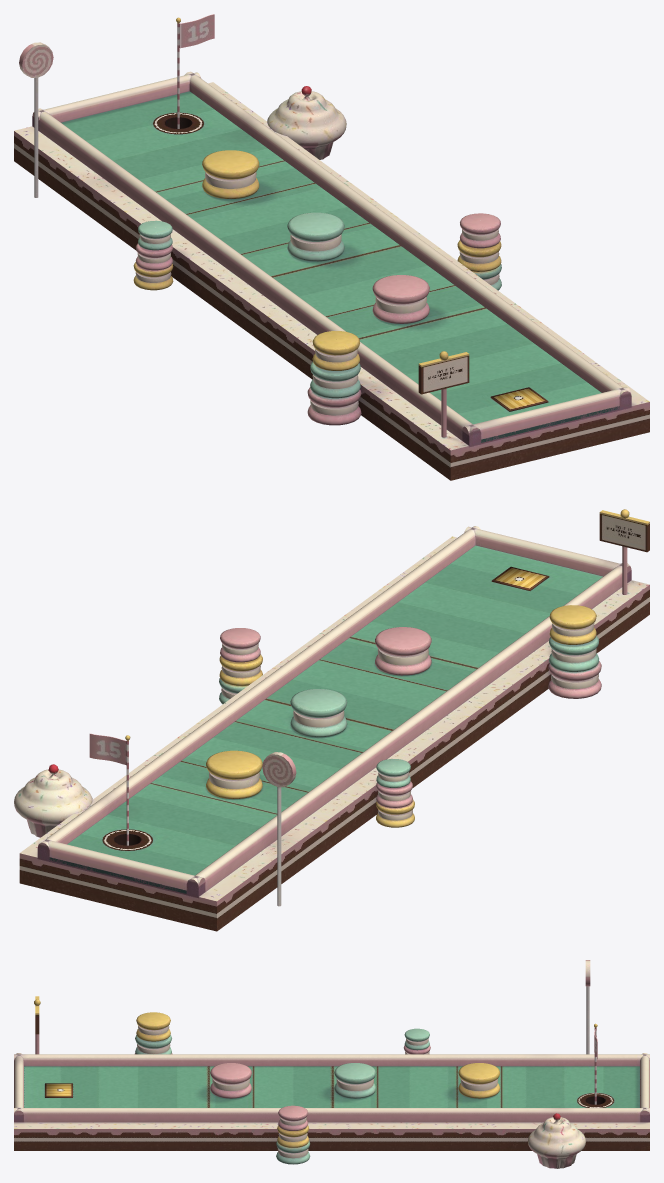
Rendered from hole15.glb.
The picture shows the model from 3 angles, top to bottom: view 1: azimuth 30°, elevation 25°; view 2: azimuth 150°, elevation 25°; view 3: azimuth 270°, elevation 25°; orthographic projection. The views are drawn at different scales.
Visible parts, largest first — view 1: Green, Base, Rails, Decor1, Decor4, Decor2, MacaronGate2, MacaronGate3, MacaronGate1, Decor3, HoleSign, Decor5 (+3 smaller); view 2: Green, Base, Rails, Decor1, Decor4, Decor2, MacaronGate2, MacaronGate1, MacaronGate3, Decor3, HoleSign, Decor5 (+3 smaller); view 3: Green, Rails, Base, Decor4, Decor2, Decor1, MacaronGate3, MacaronGate2, MacaronGate1, Decor3, Cup, Decor5 (+1 smaller).
Part boxes in pixels (bbox=[...]): Green: bbox=[61, 91, 619, 442]; Base: bbox=[14, 82, 649, 480]; Rails: bbox=[32, 71, 631, 446]; Decor1: bbox=[307, 331, 361, 425]; Decor4: bbox=[267, 86, 346, 159]; Decor2: bbox=[457, 213, 501, 290]; MacaronGate2: bbox=[287, 212, 344, 261]; MacaronGate3: bbox=[202, 150, 259, 198]; MacaronGate1: bbox=[372, 275, 429, 323]; Decor3: bbox=[133, 220, 173, 290]; HoleSign: bbox=[418, 351, 469, 437]; Decor5: bbox=[19, 42, 53, 197]; Green: bbox=[49, 545, 602, 893]; Base: bbox=[19, 536, 649, 931]; Rails: bbox=[37, 526, 631, 897]; Decor1: bbox=[548, 605, 601, 698]; Decor4: bbox=[14, 764, 92, 837]; Decor2: bbox=[219, 628, 262, 704]; MacaronGate2: bbox=[290, 689, 347, 737]; MacaronGate1: bbox=[375, 627, 431, 675]; MacaronGate3: bbox=[206, 750, 262, 799]; Decor3: bbox=[376, 759, 414, 827]; HoleSign: bbox=[599, 509, 649, 594]; Decor5: bbox=[262, 752, 296, 906]; Green: bbox=[24, 1066, 639, 1107]; Rails: bbox=[14, 1053, 649, 1122]; Base: bbox=[14, 1098, 649, 1150]; Decor4: bbox=[528, 1113, 585, 1168]; Decor2: bbox=[276, 1105, 310, 1164]; Decor1: bbox=[135, 1012, 172, 1054]; MacaronGate3: bbox=[458, 1063, 500, 1098]; MacaronGate2: bbox=[334, 1063, 375, 1098]; MacaronGate1: bbox=[210, 1063, 251, 1098]; Decor3: bbox=[403, 1028, 430, 1054]; Cup: bbox=[577, 1093, 614, 1107]; Decor5: bbox=[585, 960, 590, 1054].
Size of what is drawn, in the model's own units: 3.33 by 1.59 by 8.2.
1 material, 1 textured.
